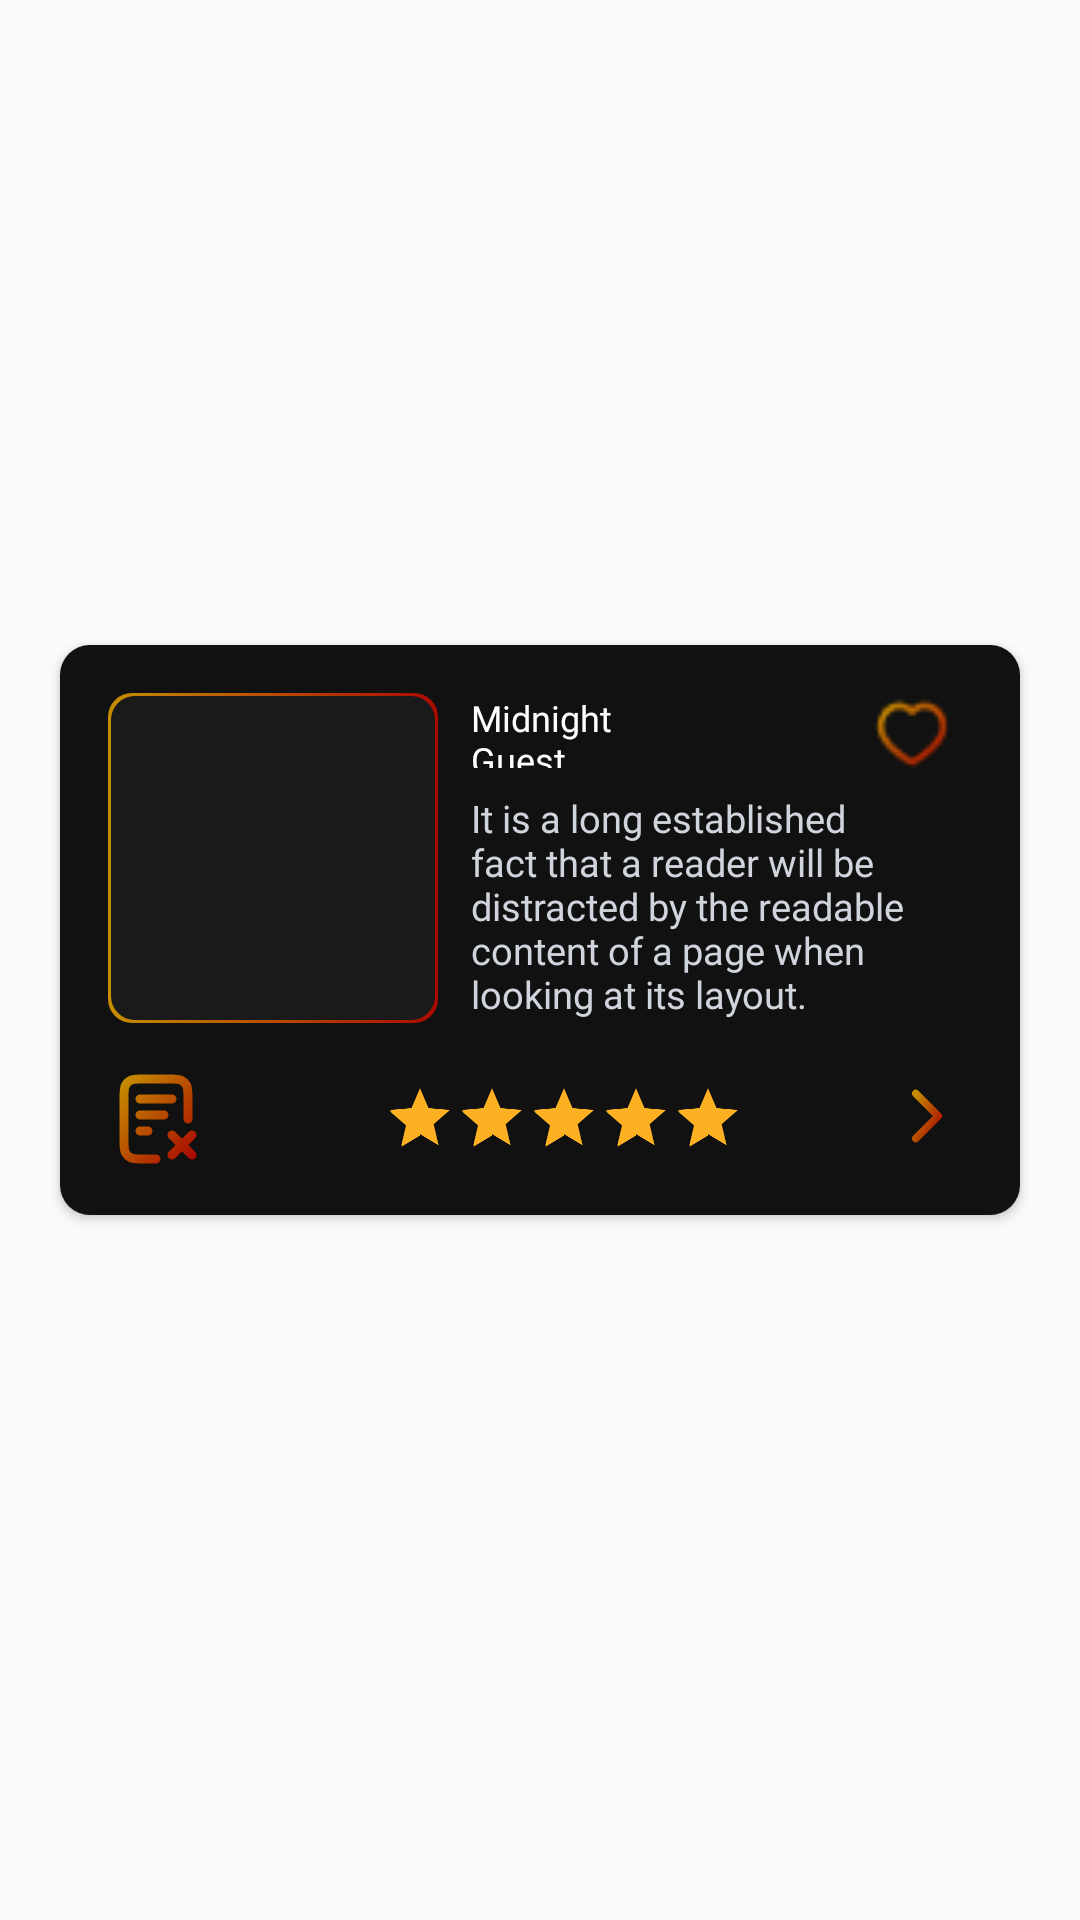

Locate icon controls on the screen. Image size 1080×1920, boxes as (x1, y1, x2, y2).
chevron right: (911, 1089, 942, 1143)
